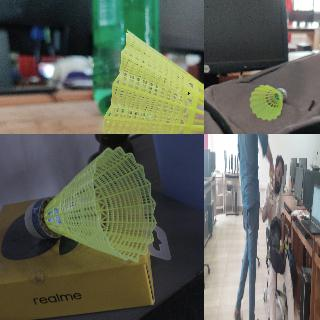shuttlecock: (24, 147, 156, 260), (93, 27, 203, 133), (248, 84, 286, 120), (279, 240, 282, 250)
